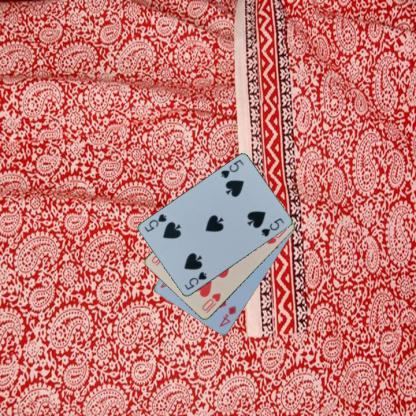10h: (199, 290, 222, 312)
4d: (216, 302, 237, 328)
5s: (218, 157, 244, 180), (182, 269, 208, 291)
